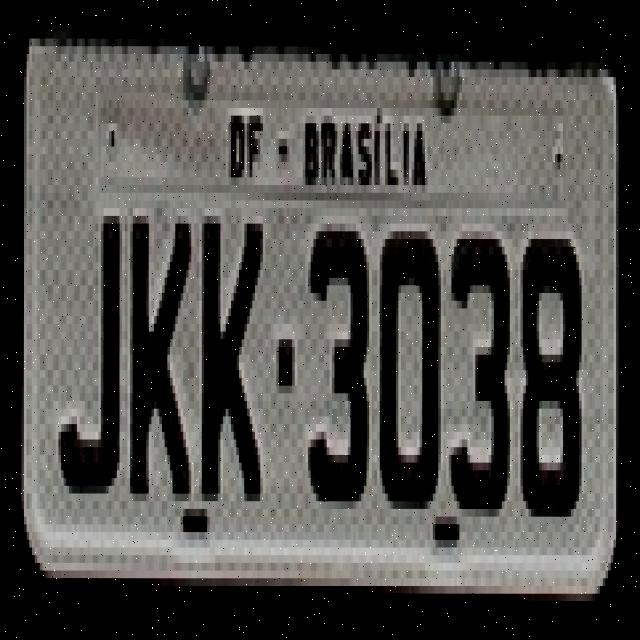licenseplate: (12, 18, 632, 614)
